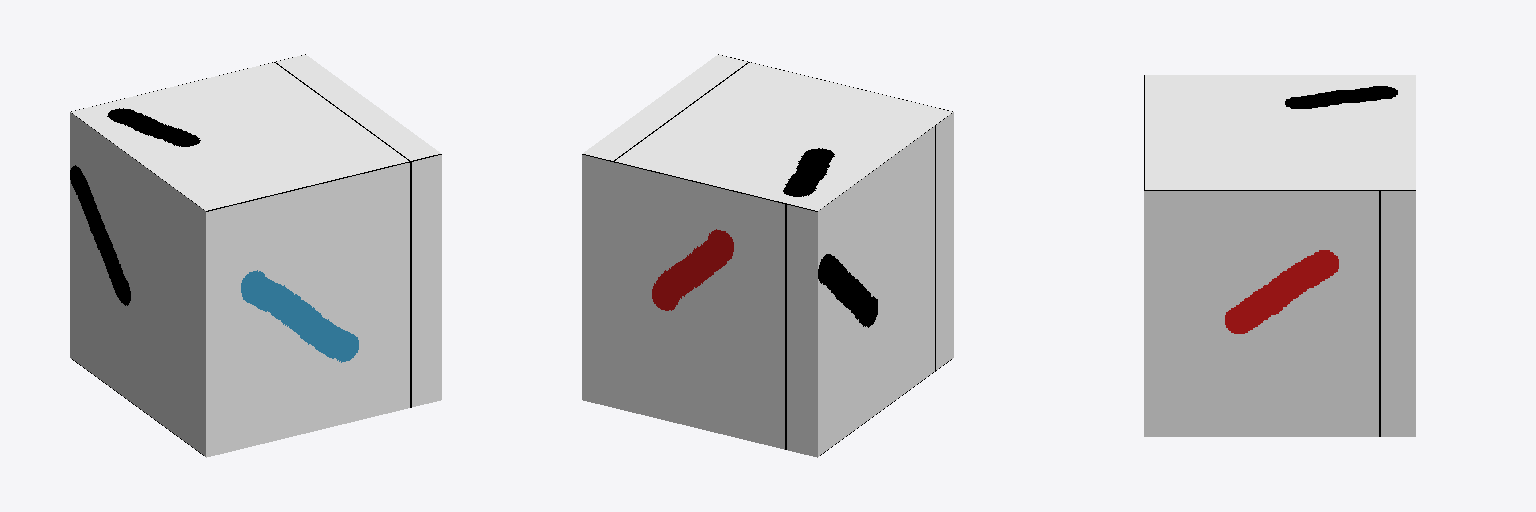
3 renders of one model, left to right at view 1: azimuth 30°, elevation 25°; view 2: azimuth 150°, elevation 25°; view 3: azimuth 270°, elevation 25°, orthographic.
Visible parts, largest first — view 1: cube1; view 2: cube1; view 3: cube1.
Part boxes in pixels (x1,y1,x2,y2): cube1: (70, 54, 441, 457); cube1: (582, 54, 953, 457); cube1: (1144, 75, 1415, 436).
Size of the model in its own units: 2 by 2 by 2.
Materials: 1 (1 with a texture image).